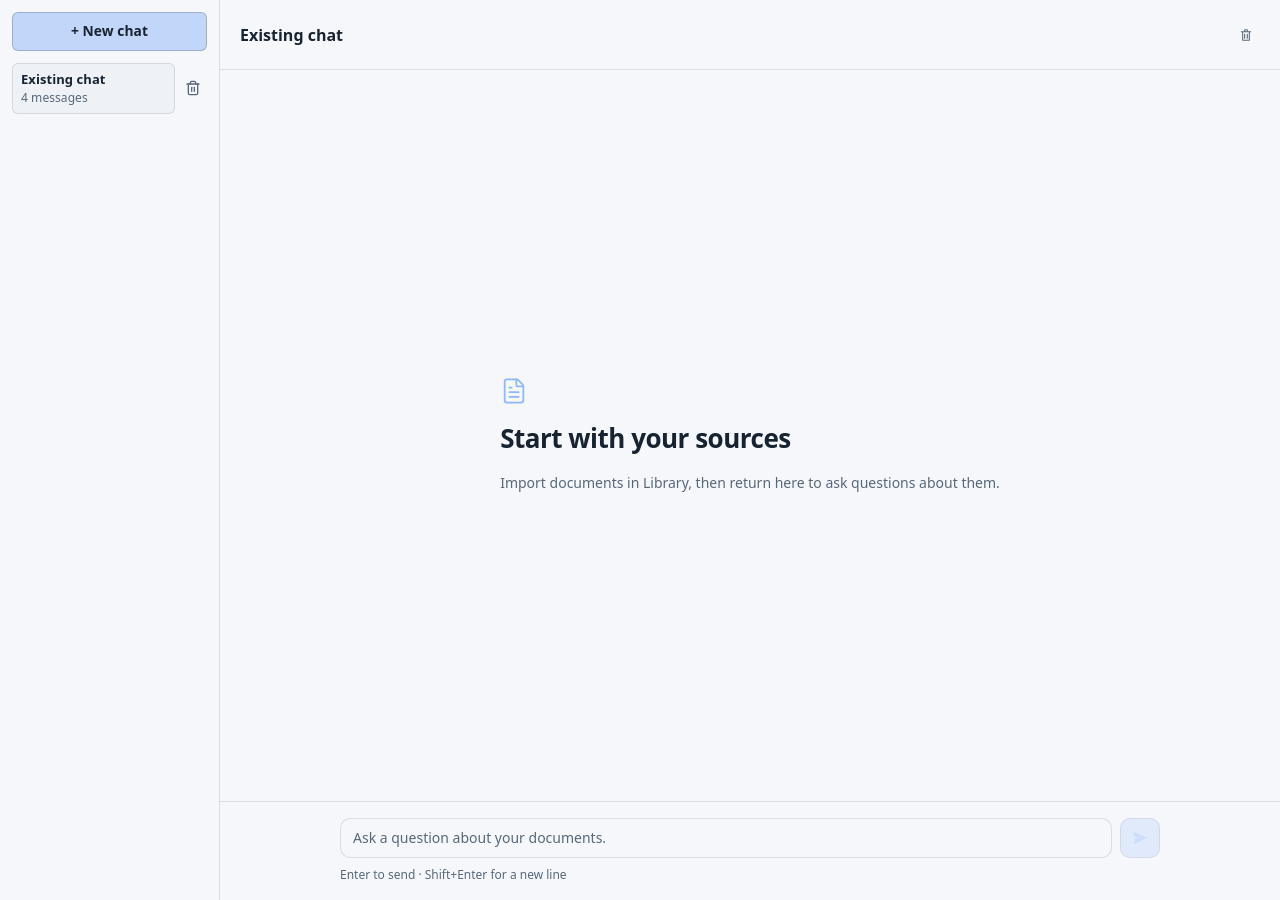
Scenario: regenerate an existing chat turn › keeps the removed question in the composer when Stop arrives during atomic deletion
The width and height of the screenshot is (1280, 900).
Click the button "Existing chat 4 messages".
click(94, 88)  # box [12,63,175,114]
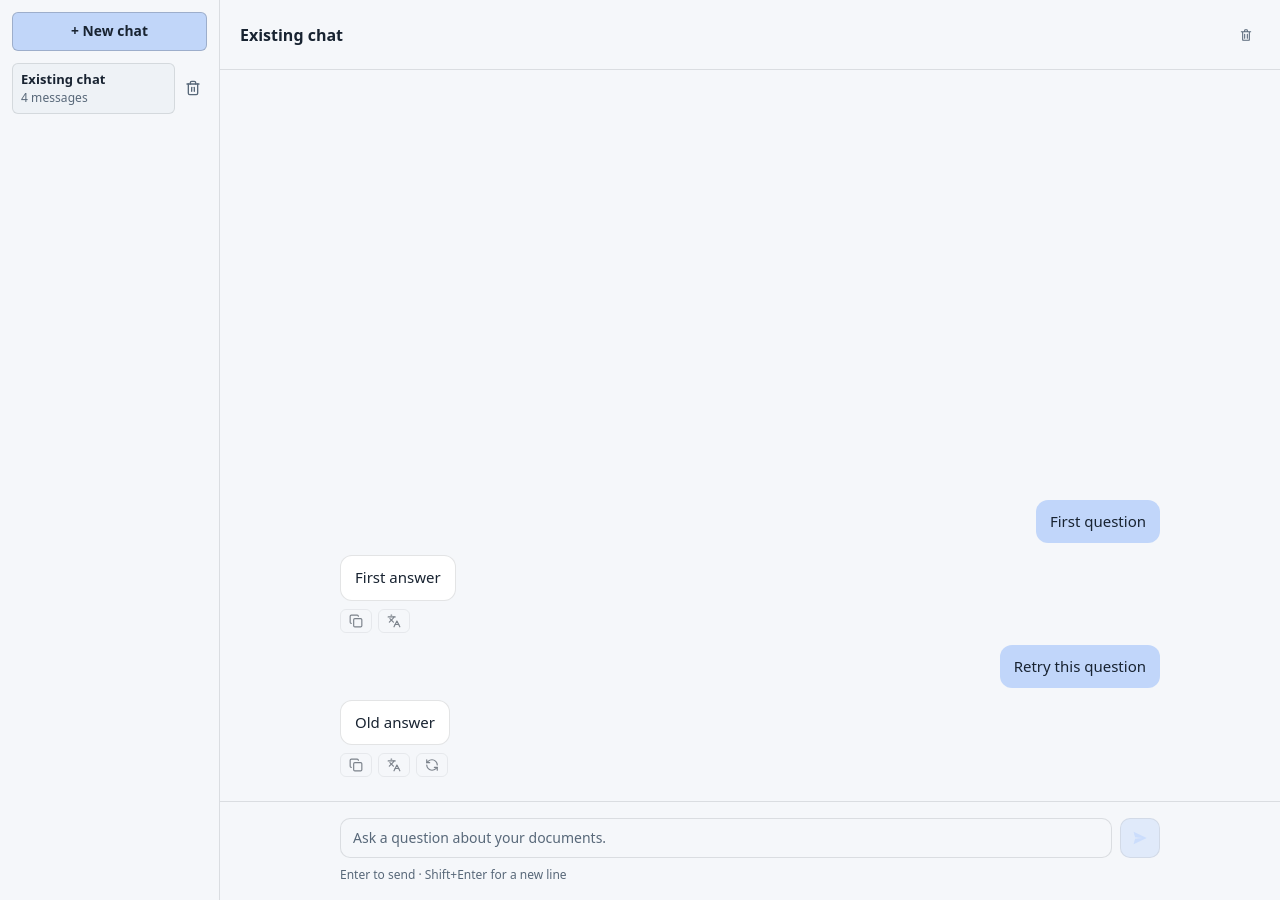
Result: the text "Old answer" is shown at [355,711,435,734]
Click the button named "Regenerate".
click(432, 765)  # box [416,753,448,777]
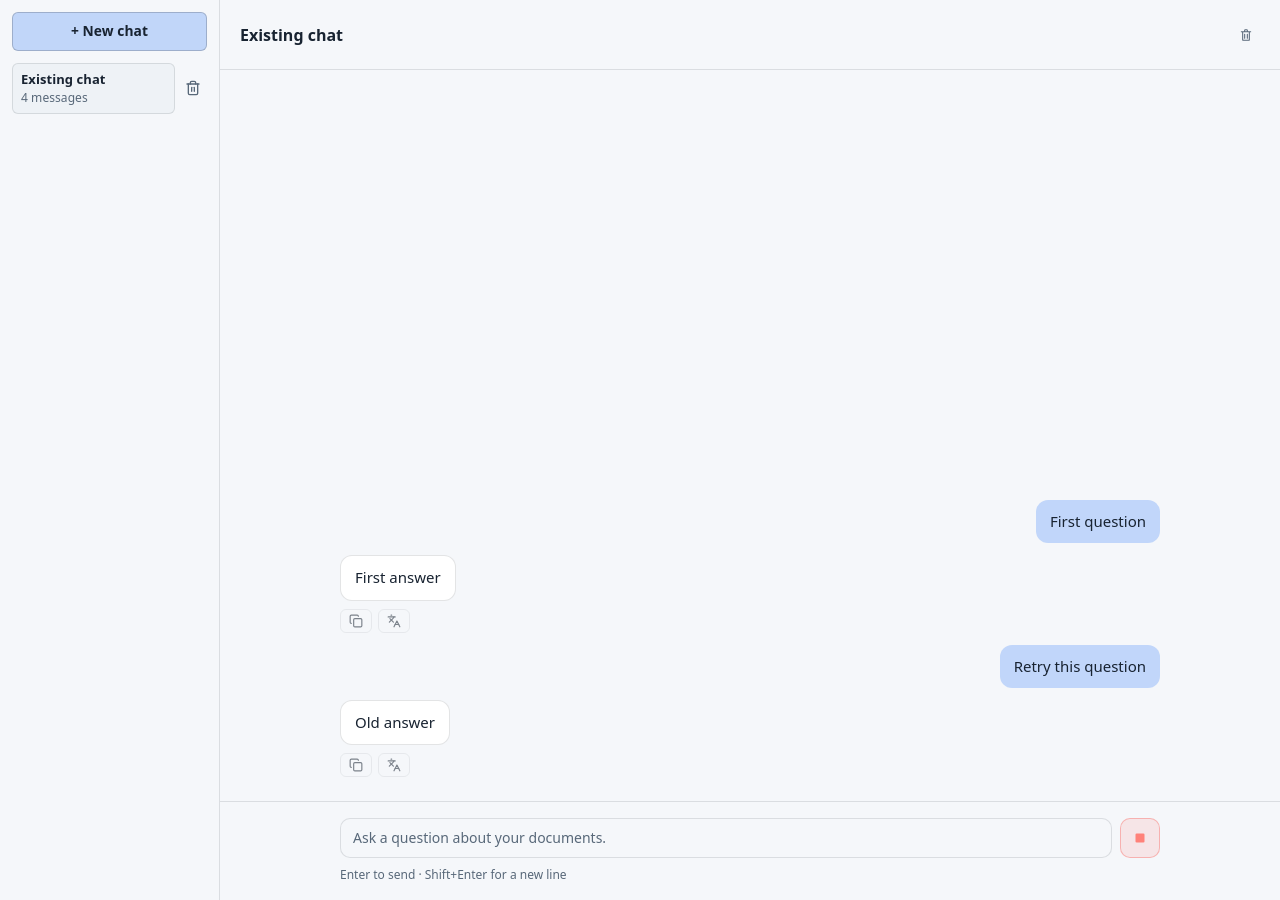
Click the button named "Cancel streaming".
click(1140, 838)  # box [1120,818,1160,858]
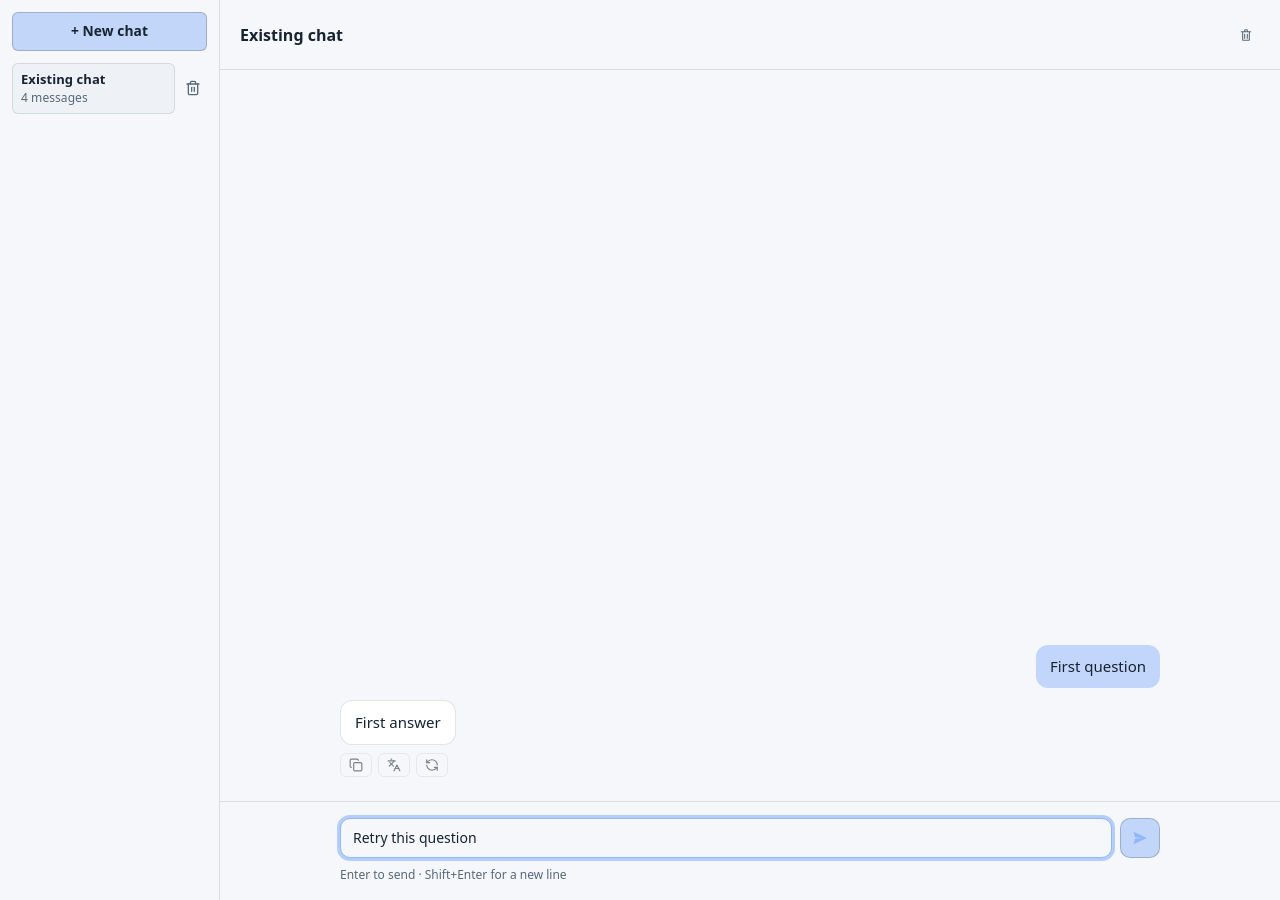
Result: the text "First answer" is shown at [355,711,441,734]
Result: the text box with class "chat__input" holds "Retry this question" at [340,818,1112,858]
Result: the text "Old answer" is gone
